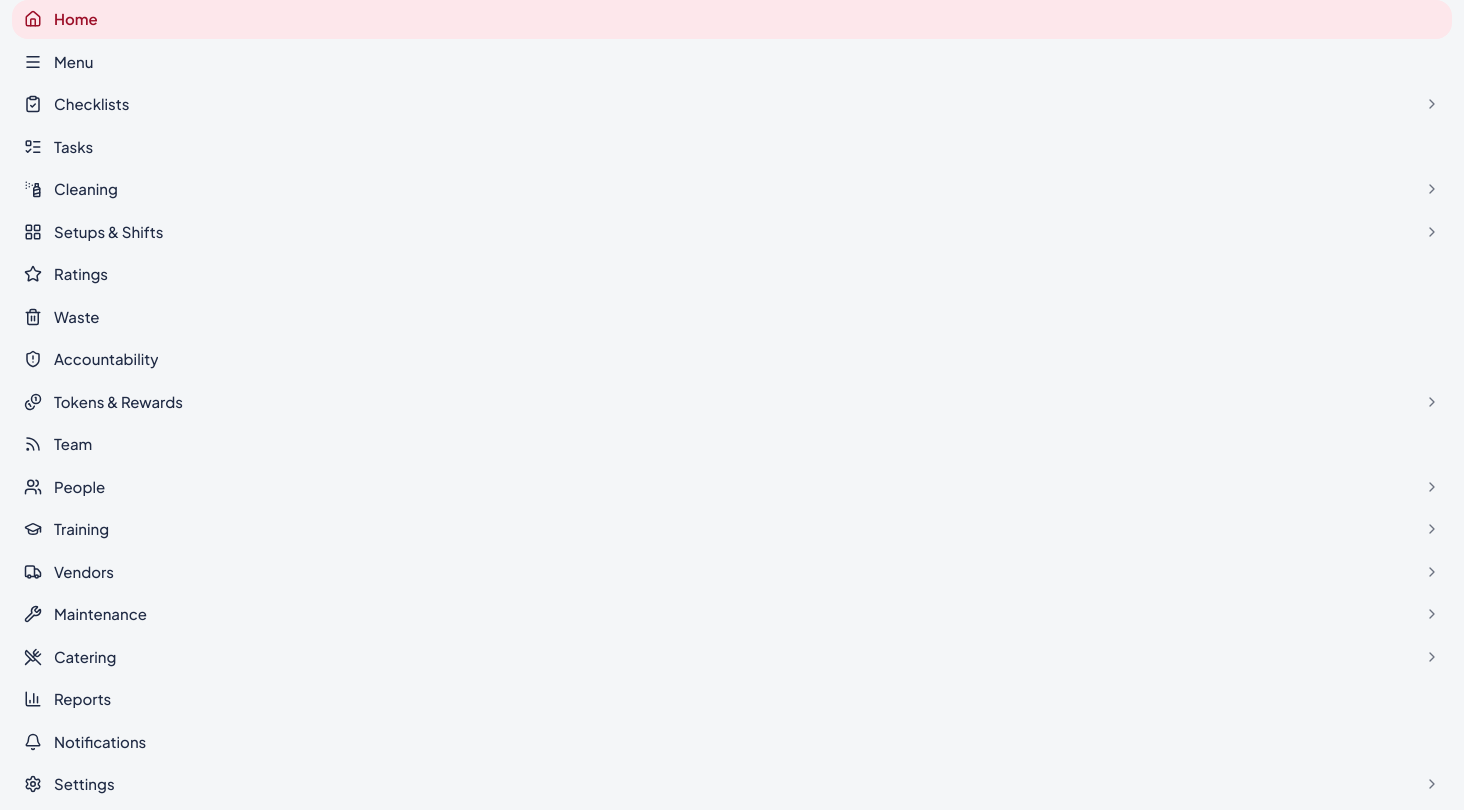
Test: NavLinks expanded › reveals a section's pages when its header is clicked
Click the button "Catering" at (85, 656), box [12,638,1452,676]
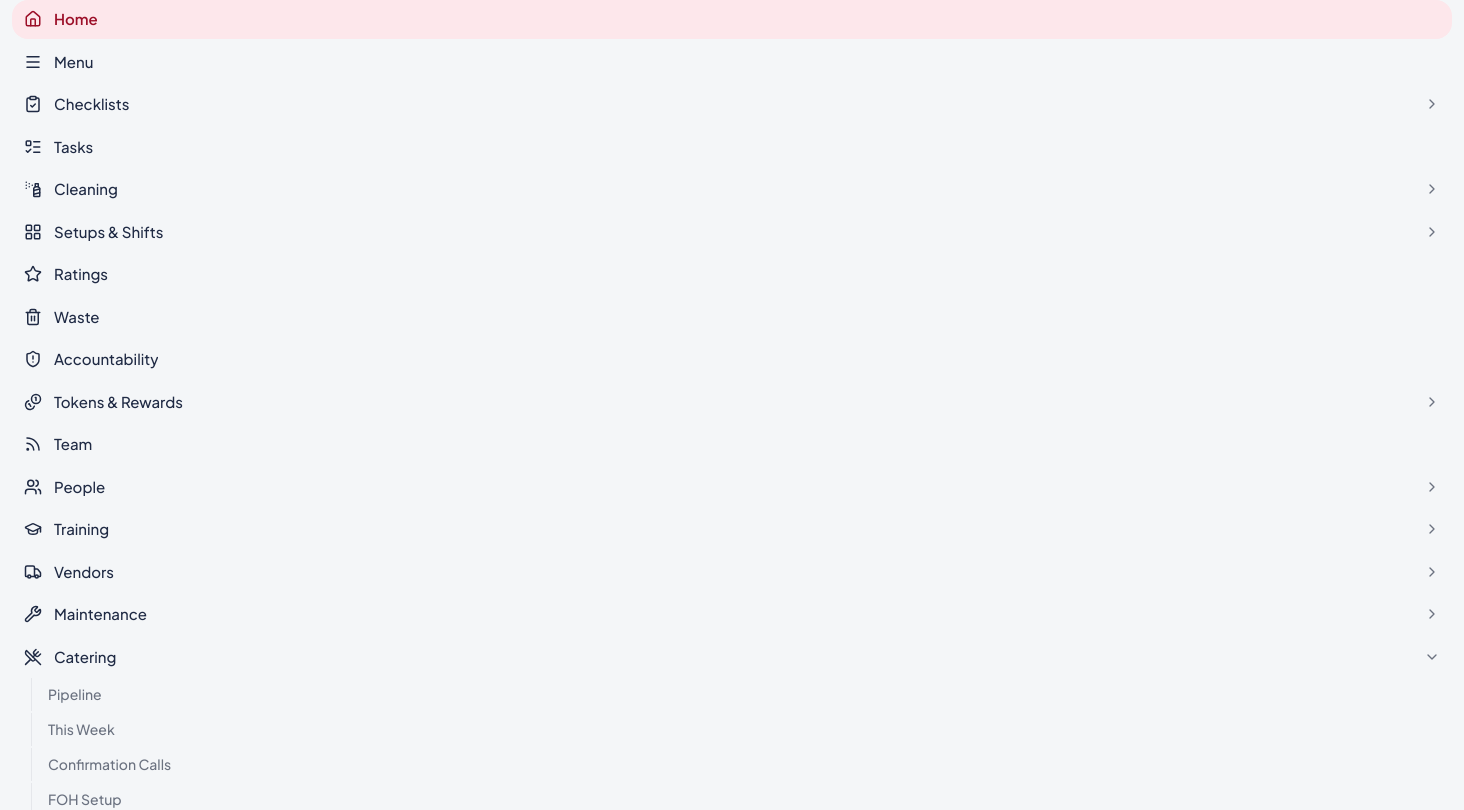
Expected: the button "Catering" is expanded, [12,638,1452,676]
